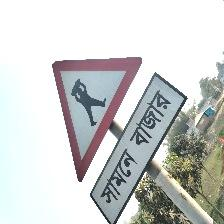Market-in-front: (52, 58, 200, 224)
